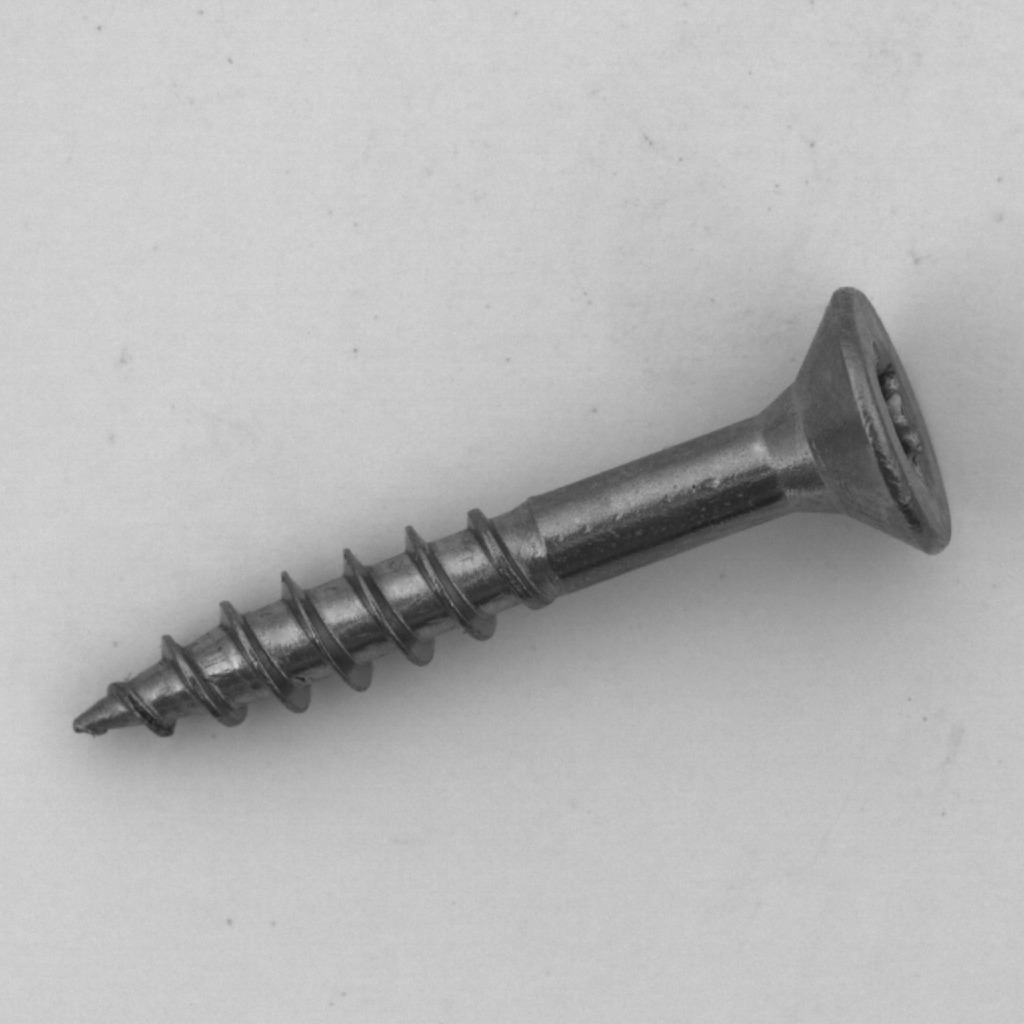good: (58, 266, 975, 758)
